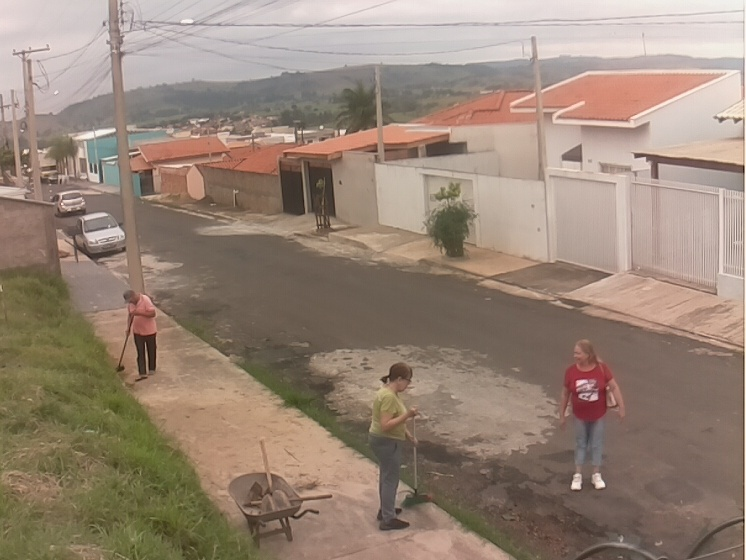person: (557, 338, 627, 492), (366, 361, 421, 532), (122, 289, 161, 382)
